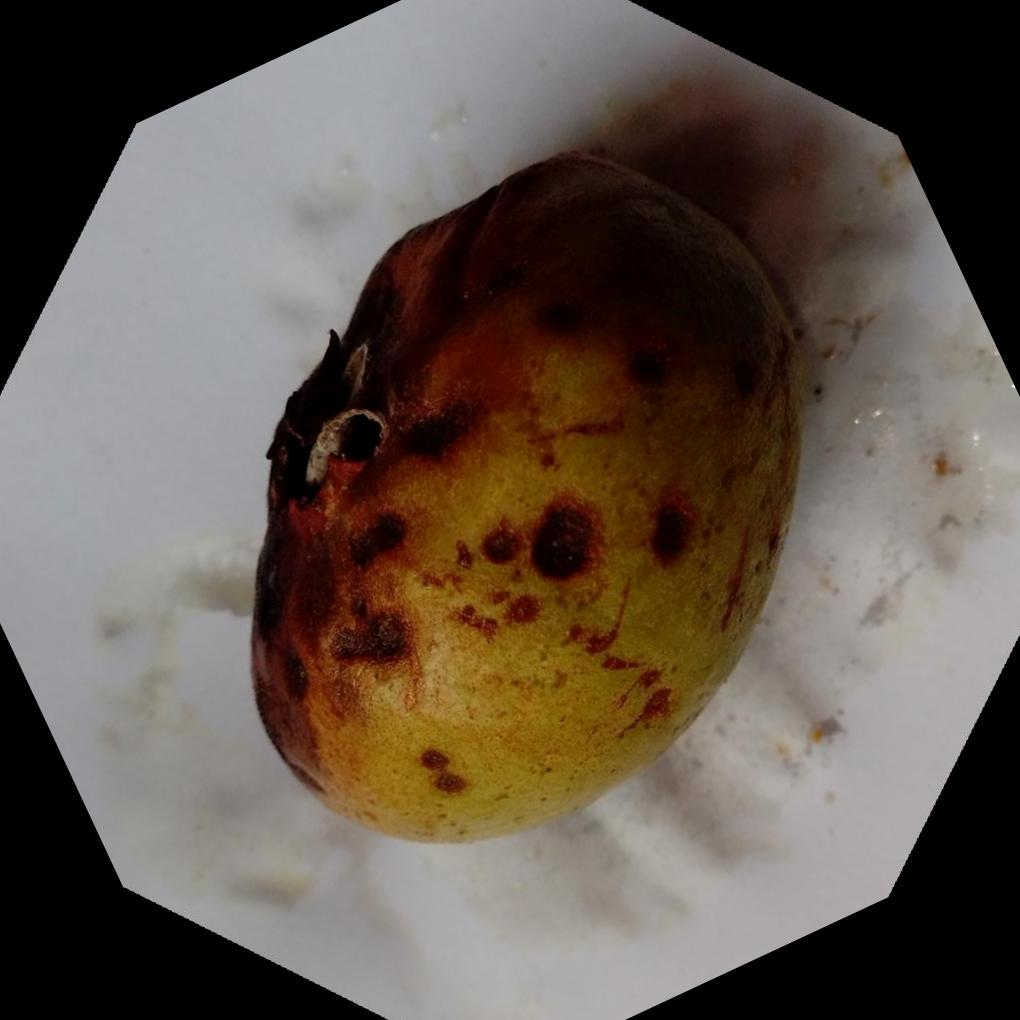FreshOrange: (250, 146, 804, 846)
